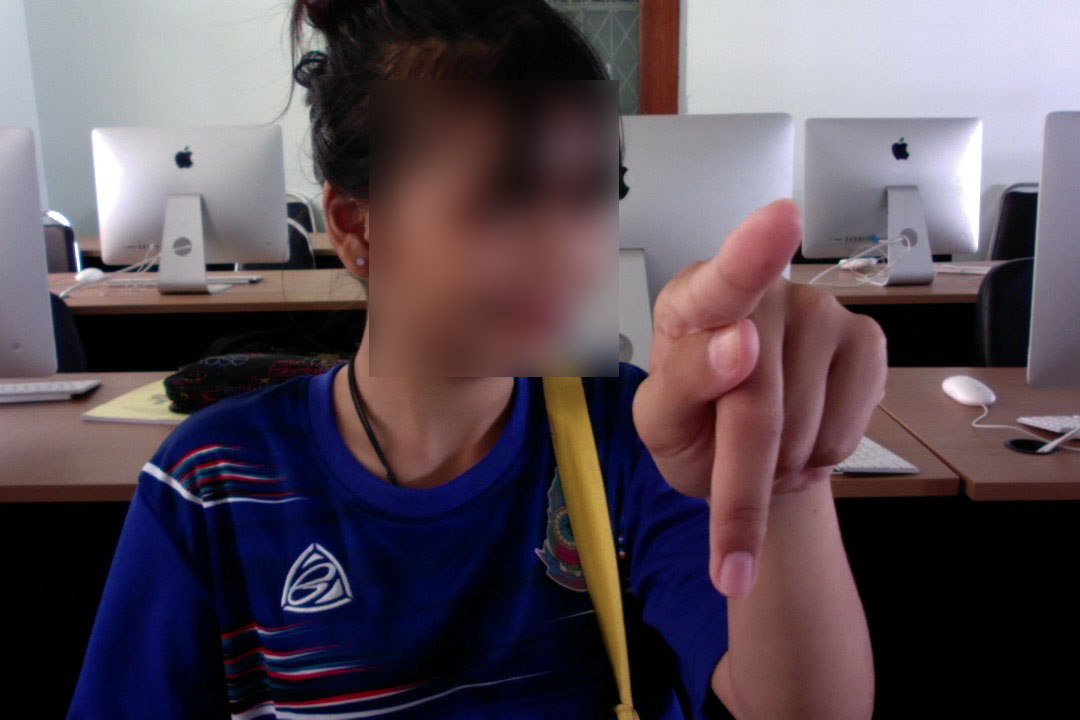por: (621, 192, 893, 601)
